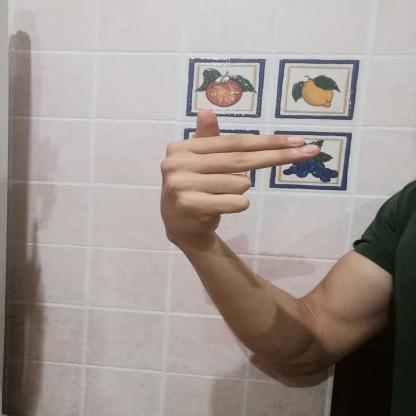GHAYN: (148, 103, 333, 245)
